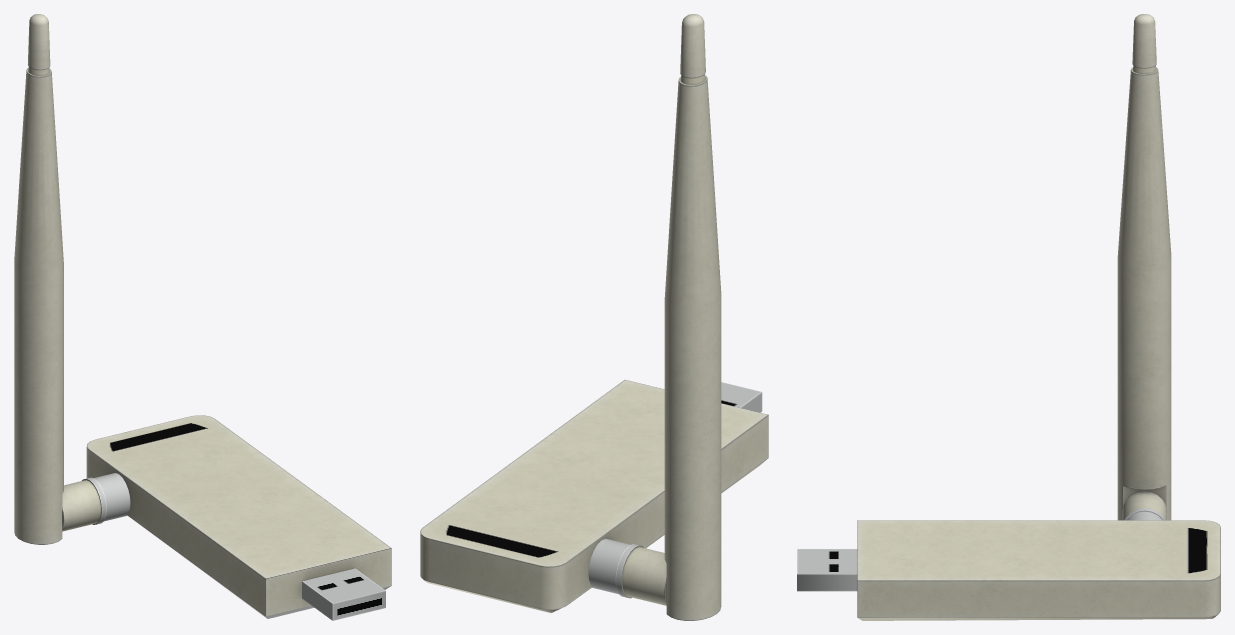
3 views of the same model, side by side, from view 1: azimuth 30°, elevation 25°; view 2: azimuth 150°, elevation 25°; view 3: azimuth 270°, elevation 25° (orthographic). The views are drawn at different scales.
Visible parts, largest first — view 1: USBBase_lo, Antenna_lo, AntennaMount_lo; view 2: USBBase_lo, Antenna_lo, AntennaMount_lo; view 3: USBBase_lo, Antenna_lo, AntennaMount_lo.
Boxes of the visible parts, bbox=[...] form: USBBase_lo: bbox=[86, 415, 391, 620]; Antenna_lo: bbox=[14, 14, 63, 544]; AntennaMount_lo: bbox=[62, 473, 130, 531]; USBBase_lo: bbox=[420, 380, 768, 612]; Antenna_lo: bbox=[664, 14, 721, 620]; AntennaMount_lo: bbox=[588, 538, 666, 605]; USBBase_lo: bbox=[797, 520, 1220, 620]; Antenna_lo: bbox=[1117, 14, 1171, 520]; AntennaMount_lo: bbox=[1122, 491, 1166, 520].
Size of the model in its own units: 0.2603 by 0.5797 by 0.4295.
1 material, 1 textured.
